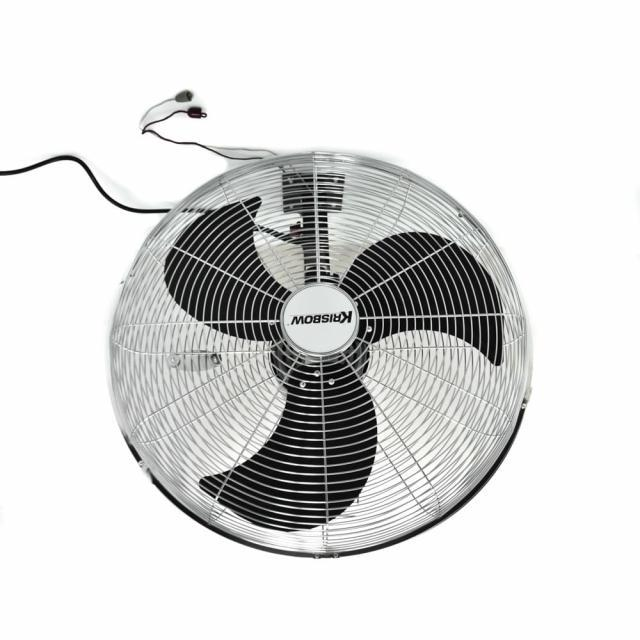fan: (108, 90, 534, 550)
